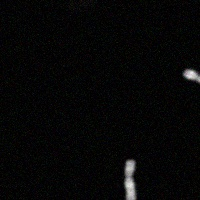chromosome: (123, 159, 136, 200), (182, 69, 200, 93)
